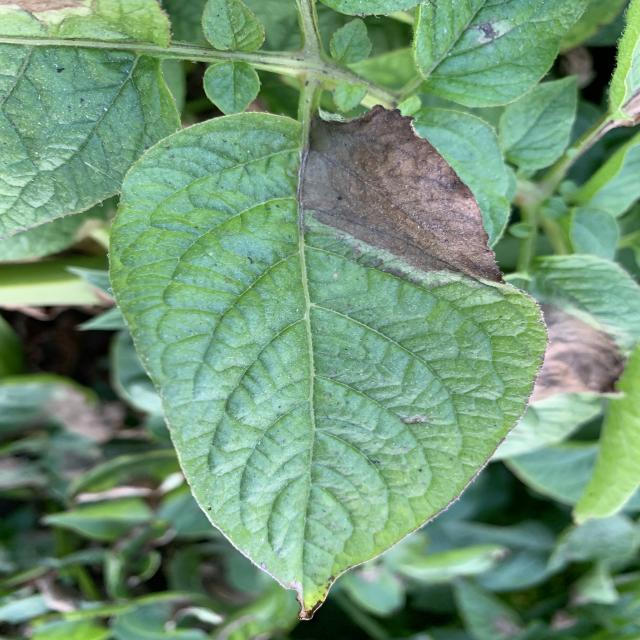lateblight: (300, 105, 503, 289), (530, 304, 623, 402)
